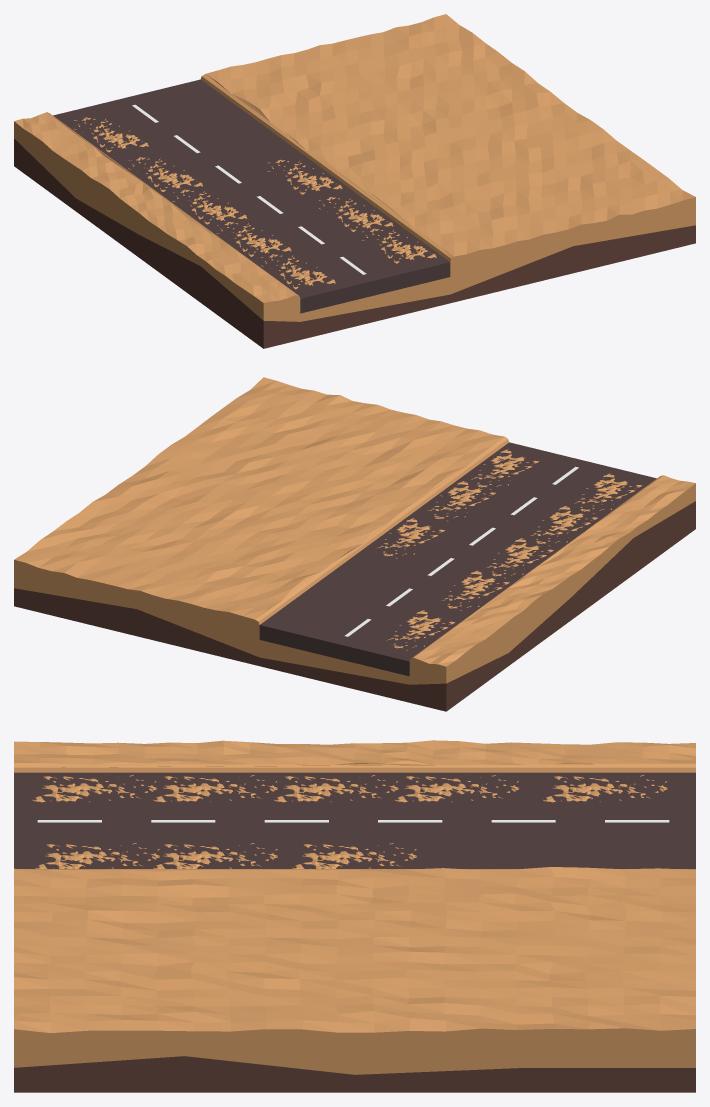
3 views of the same model, one above another, from view 1: azimuth 30°, elevation 25°; view 2: azimuth 150°, elevation 25°; view 3: azimuth 270°, elevation 25° (orthographic). The views are drawn at different scales.
Parts seen in each view (by area): view 1: Base; view 2: Base; view 3: Base.
Boxes of the visible parts, x1,y1,x2,y2 form: Base: (14,14,695,348); Base: (14,377,695,711); Base: (14,740,695,1092).
Size of the model in its own units: 10001 by 1072 by 10002.
